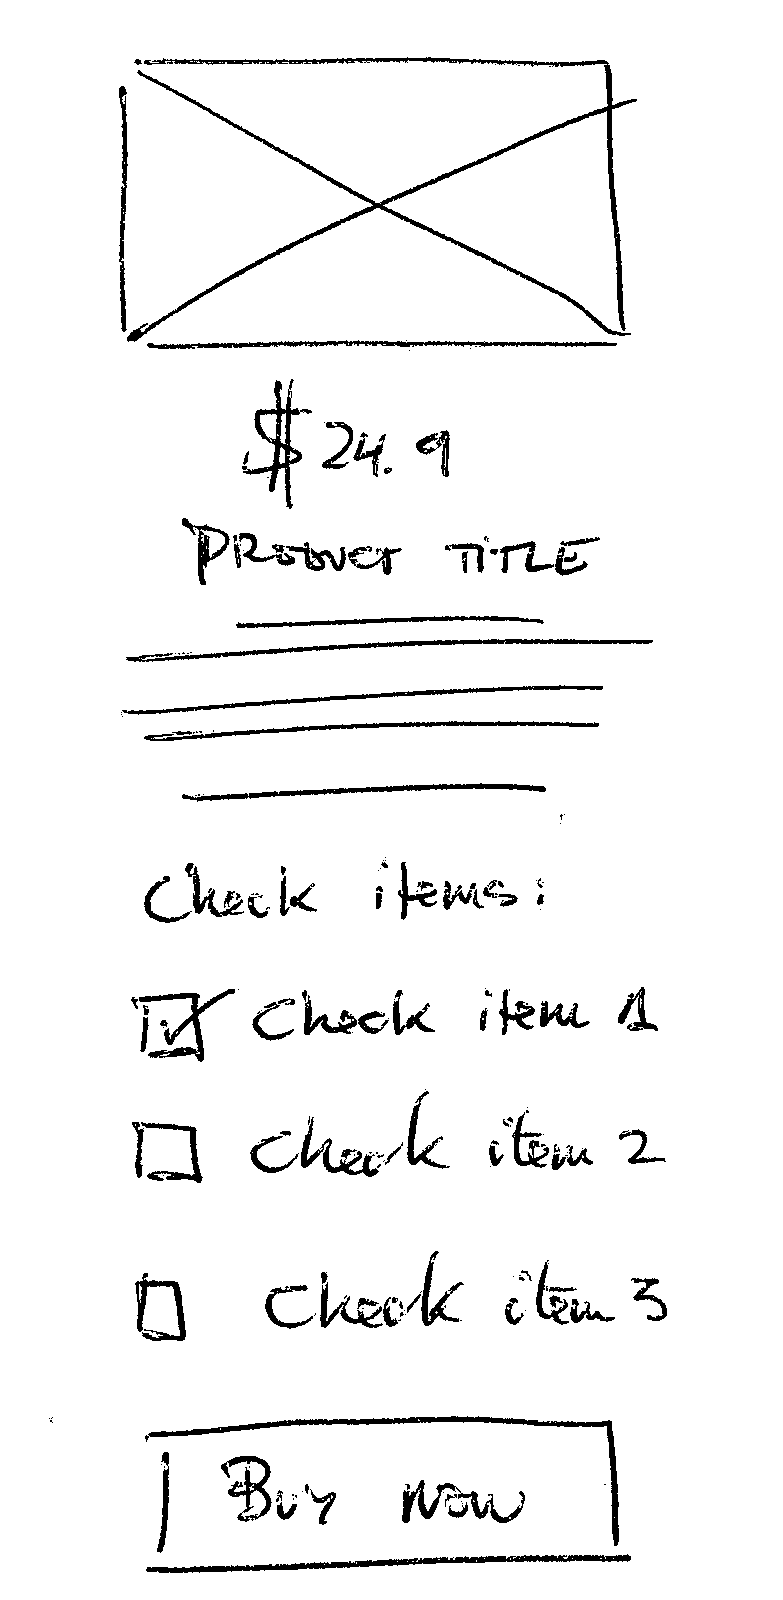Button: (133, 1407, 638, 1582)
Check Box: (123, 1094, 609, 1204), (135, 1248, 618, 1351), (126, 980, 596, 1070)
Heading: (443, 526, 604, 585)
Image: (109, 48, 650, 355)
Paragraph: (116, 602, 667, 816)
